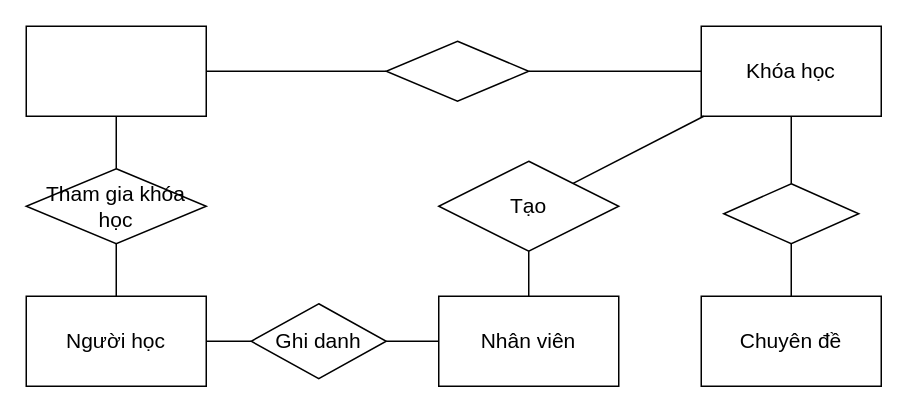
Image size: 908x413. Some labels were removed from this diagram. Each missing label, with the box of its shape:
Có: (385, 40, 529, 101)
Học viên: (25, 25, 206, 116)
Thuộc: (722, 182, 859, 244)
